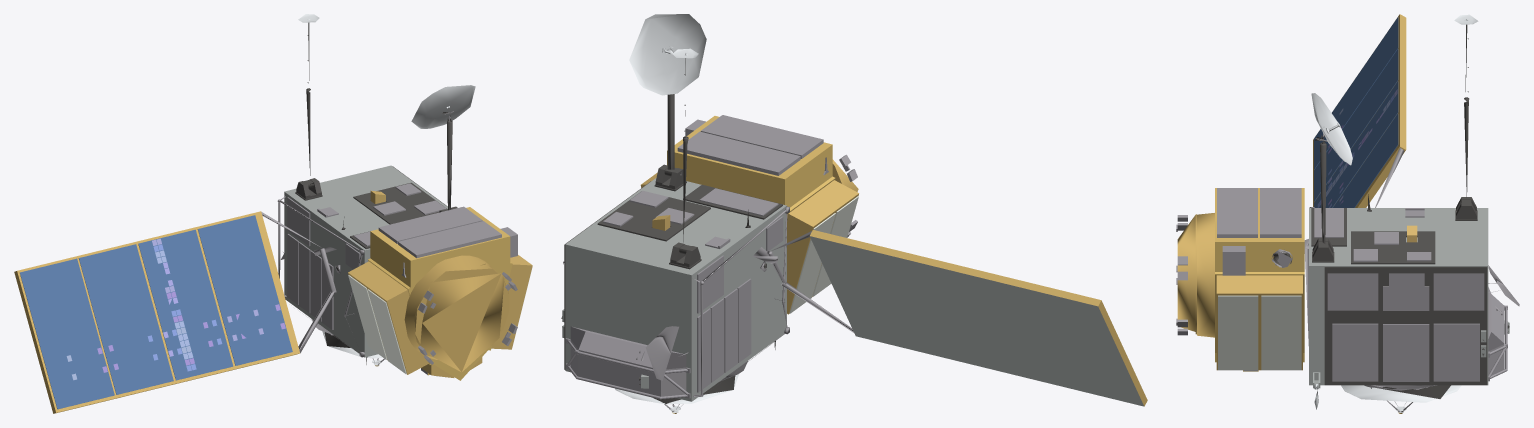
Rendered from topex-poseidon.glb.
3 renders of one model, left to right at view 1: azimuth 30°, elevation 25°; view 2: azimuth 150°, elevation 25°; view 3: azimuth 270°, elevation 25°, orthographic. The views are drawn at different scales.
Visible parts, largest first — view 1: Topex-Posidon-composite; view 2: Topex-Posidon-composite; view 3: Topex-Posidon-composite.
Boxes of the visible parts, x1=… form: Topex-Posidon-composite: x1=14, y1=14, x2=532, y2=413; Topex-Posidon-composite: x1=561, y1=14, x2=1147, y2=413; Topex-Posidon-composite: x1=1176, y1=14, x2=1519, y2=413.
Bounding box in the file's own units: 373 × 276 × 230.
4 materials, 4 textured.
